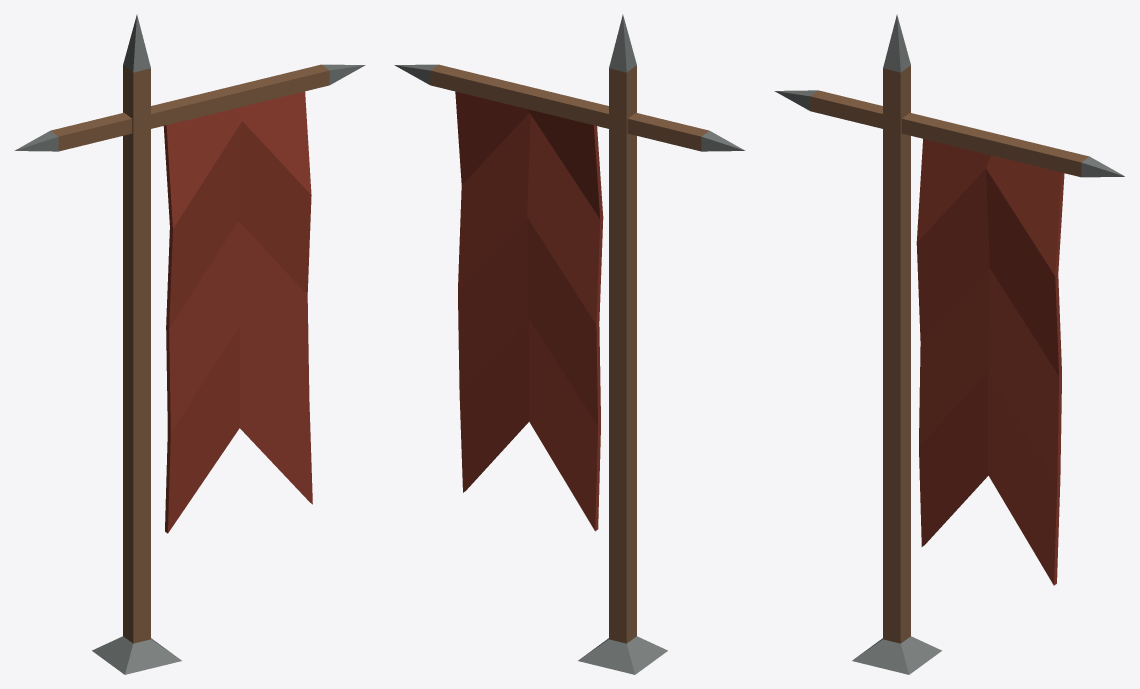
File: Banner_2_Red.fbx
3 renders of one model, left to right at view 1: azimuth 30°, elevation 25°; view 2: azimuth 150°, elevation 25°; view 3: azimuth 330°, elevation 25°, orthographic.
Visible parts, largest first — view 1: Banner_2_Red_Part_3, Banner_2_Red_Part_1, Banner_2_Red_Part_2; view 2: Banner_2_Red_Part_3, Banner_2_Red_Part_1, Banner_2_Red_Part_2; view 3: Banner_2_Red_Part_3, Banner_2_Red_Part_1, Banner_2_Red_Part_2.
Part boxes in pixels (box(x1,y1,x2,y2)): Banner_2_Red_Part_3: box(163, 91, 312, 533); Banner_2_Red_Part_1: box(50, 64, 329, 643); Banner_2_Red_Part_2: box(14, 14, 365, 674); Banner_2_Red_Part_3: box(455, 91, 603, 531); Banner_2_Red_Part_1: box(430, 64, 709, 643); Banner_2_Red_Part_2: box(394, 14, 745, 674); Banner_2_Red_Part_3: box(916, 139, 1064, 585); Banner_2_Red_Part_1: box(810, 65, 1089, 643); Banner_2_Red_Part_2: box(774, 14, 1124, 674).
Size of the model in its own units: 172 by 300 by 28.14.
